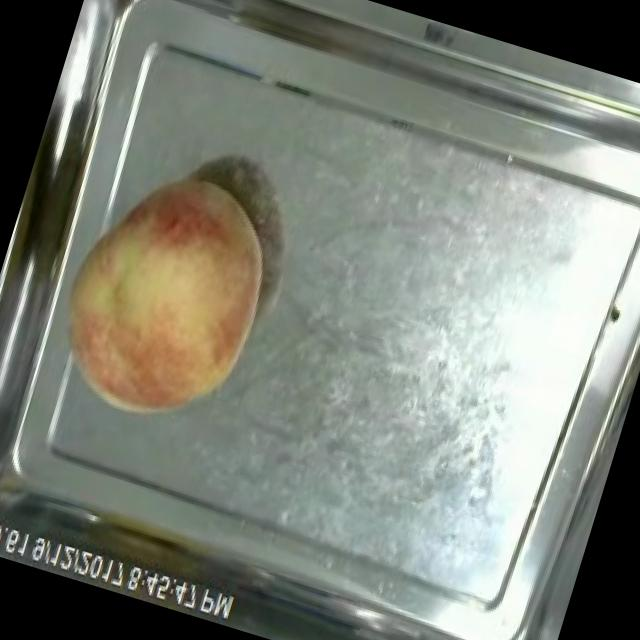Fruit: (25, 139, 298, 448)
